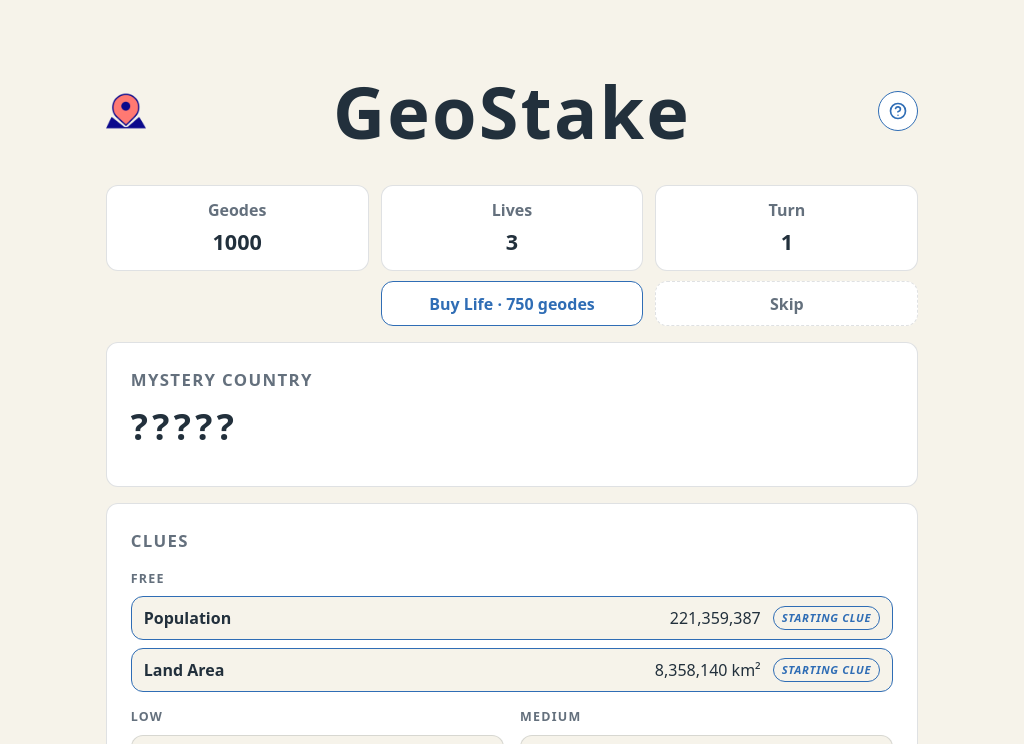
Test: GameScreen help overlay › dismisses the overlay with the Escape key
Click the button named "help" at (898, 111), box top-left (878, 91), bottom-right (918, 131)
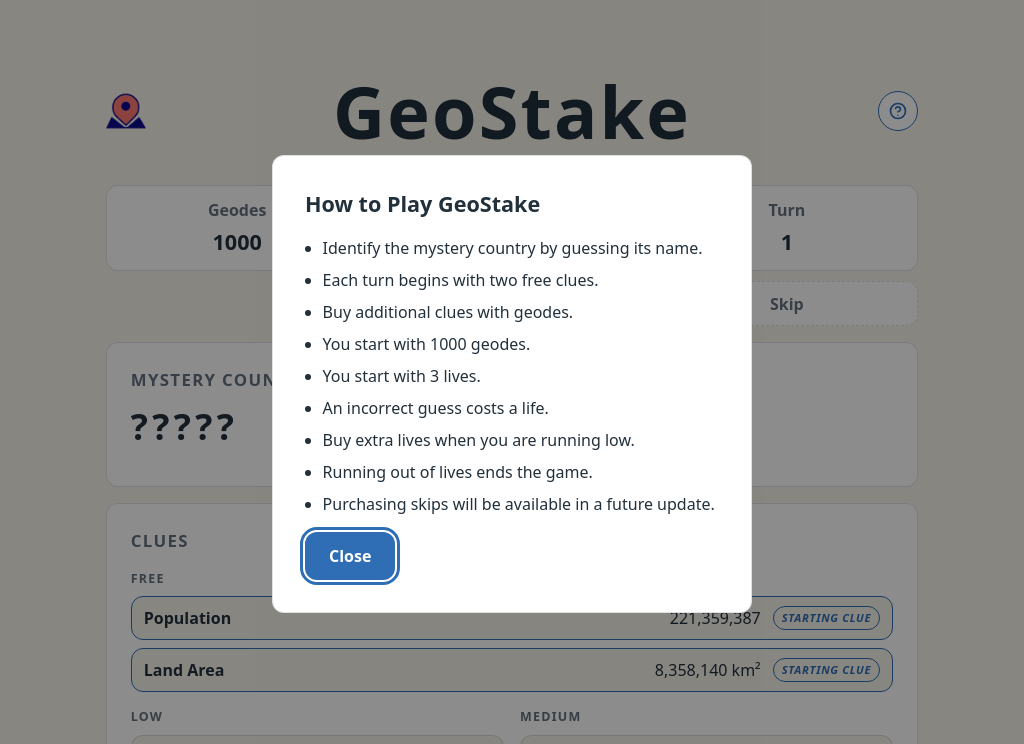
Check: the dialog "How to Play GeoStake" is shown, box top-left (272, 155), bottom-right (752, 613)
Press Escape
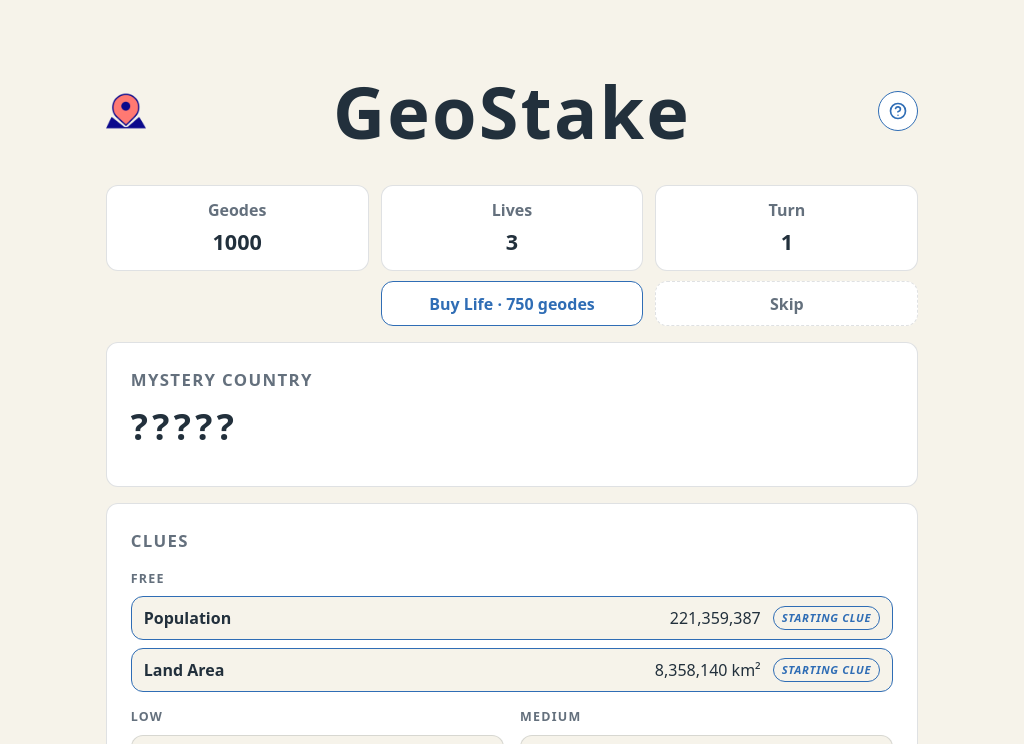
Check: the dialog is gone
